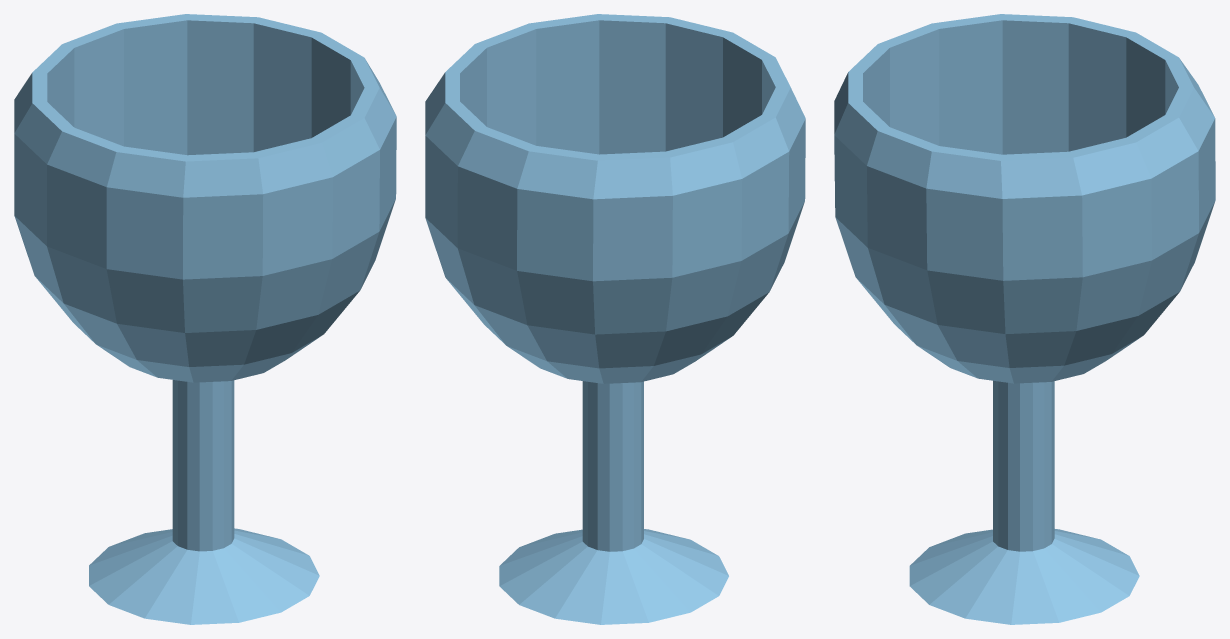
Rendered from Wineglass.glb.
3 views of the same model, side by side, from view 1: azimuth 30°, elevation 25°; view 2: azimuth 150°, elevation 25°; view 3: azimuth 270°, elevation 25° (orthographic).
Visible parts, largest first — view 1: Sphere; view 2: Sphere; view 3: Sphere.
Boxes of the visible parts, x1=… form: Sphere: x1=14, y1=14, x2=396, y2=624; Sphere: x1=425, y1=14, x2=805, y2=624; Sphere: x1=834, y1=14, x2=1215, y2=624.
Bounding box in the file's own units: 0.548 × 0.7705 × 0.5458.
